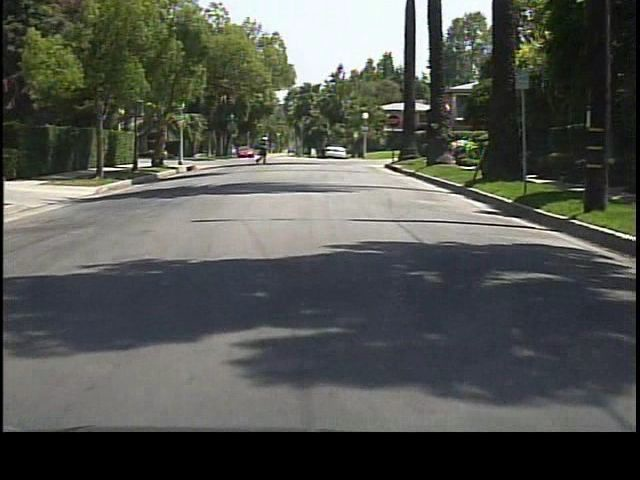person: (256, 135, 270, 167)
